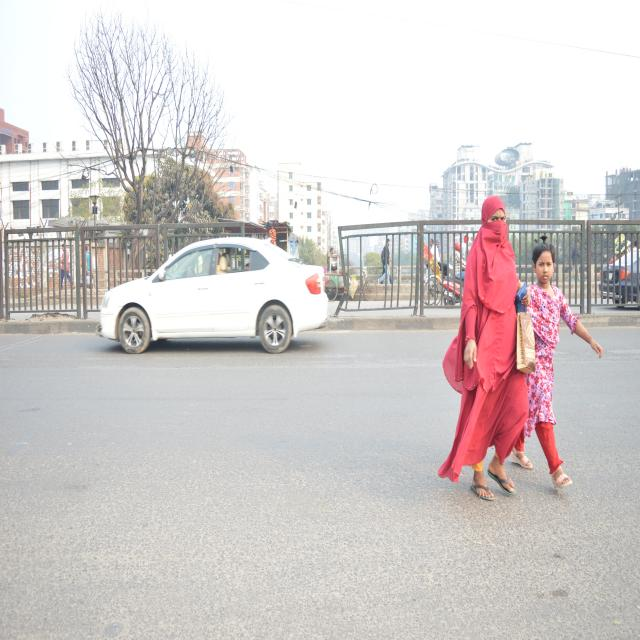car: (73, 222, 349, 384)
